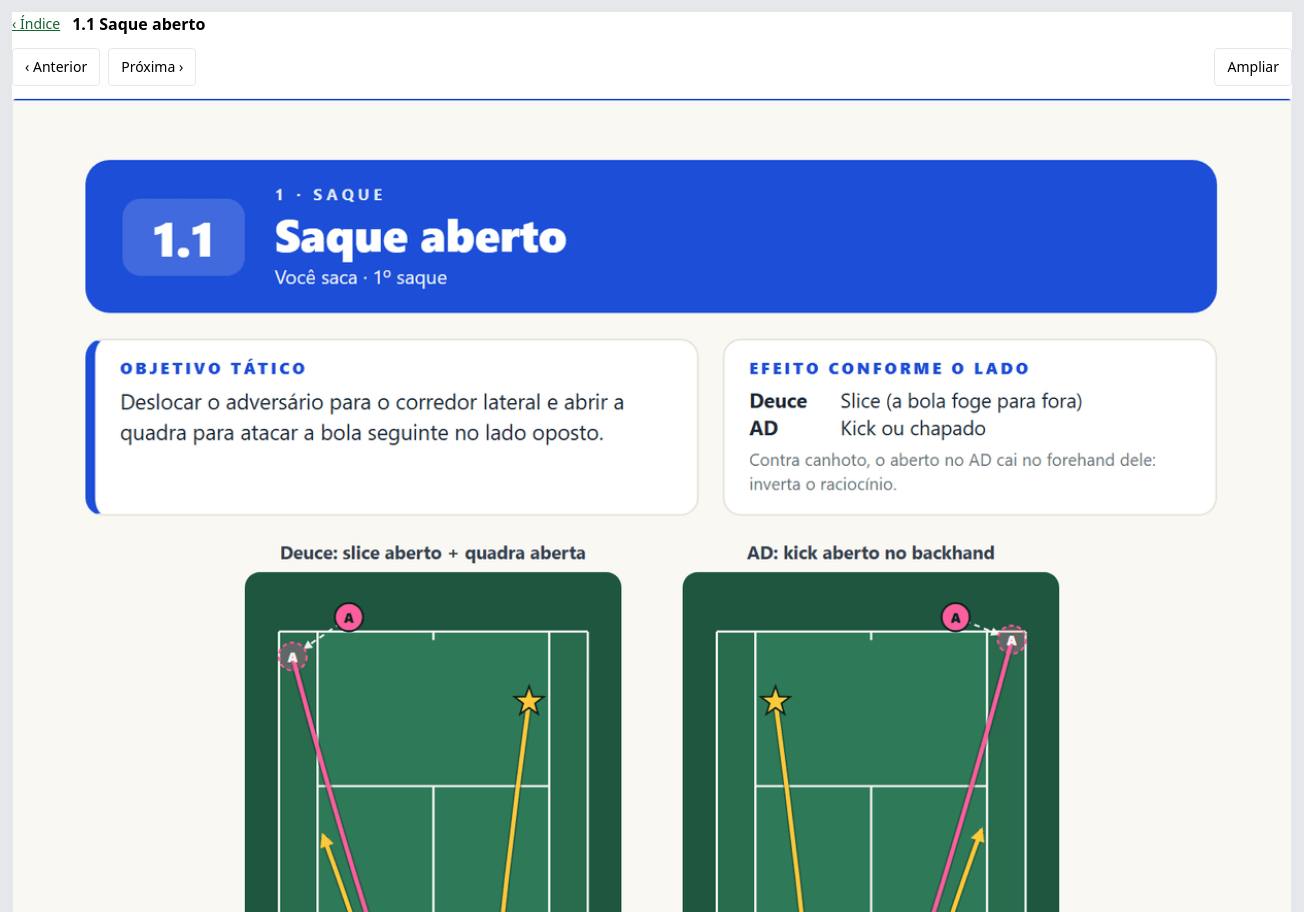
Test case: Ampliar alterna para Reduzir
Step 1. Click the button "Ampliar" → click(1253, 67), box x1=1214 y1=48 x2=1292 y2=86
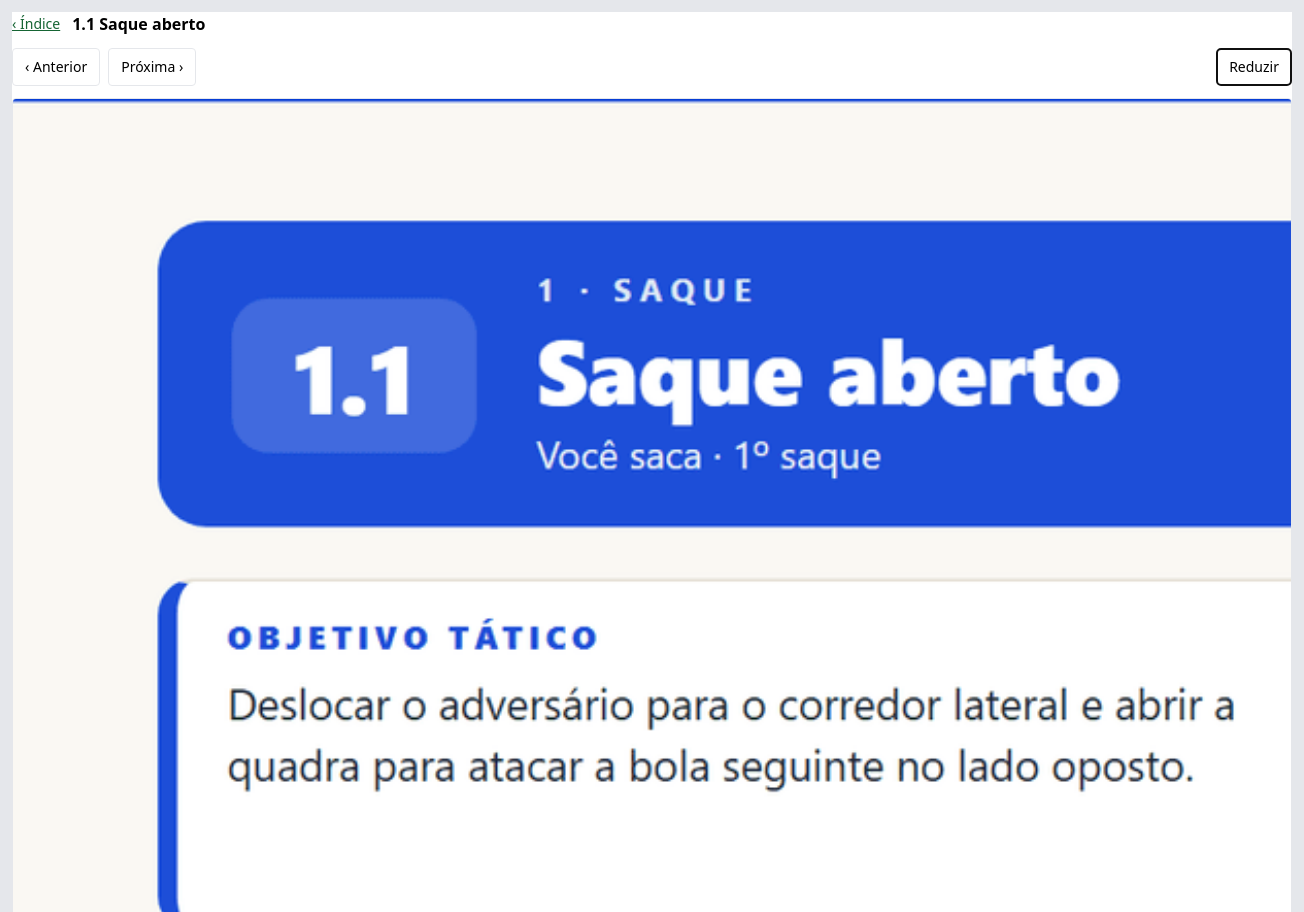
Now the button "Reduzir" is shown, box x1=1216 y1=48 x2=1292 y2=86
